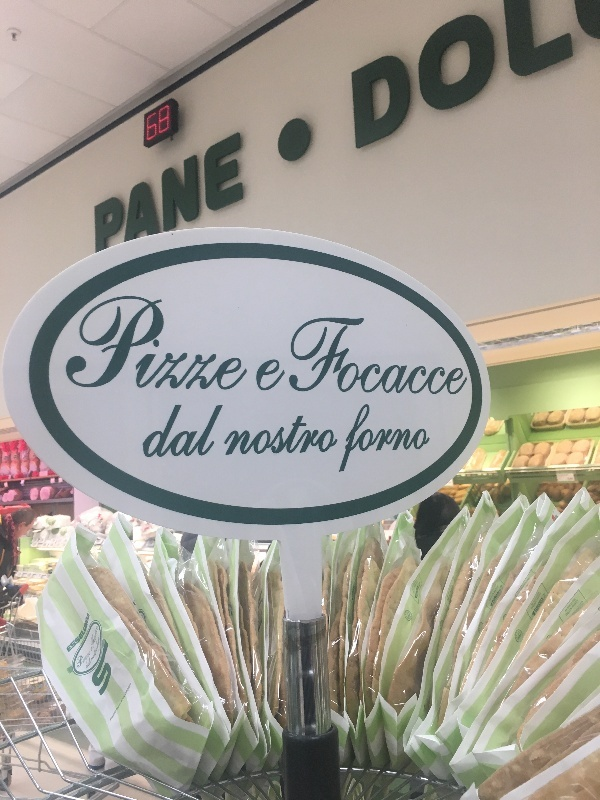text: (353, 1, 368, 153), (369, 1, 384, 153), (385, 1, 400, 153), (401, 1, 416, 153), (417, 1, 432, 153), (433, 1, 448, 153), (449, 1, 464, 153), (465, 1, 480, 153), (481, 1, 496, 153), (97, 129, 112, 255), (113, 129, 128, 255), (129, 129, 144, 255), (145, 129, 160, 255), (161, 129, 176, 255), (177, 129, 192, 255), (193, 129, 208, 255), (209, 129, 224, 255), (225, 129, 240, 255), (81, 277, 96, 391), (97, 277, 112, 391), (113, 277, 128, 391), (129, 277, 144, 391), (145, 277, 160, 391), (161, 277, 176, 391), (177, 277, 192, 391), (193, 277, 208, 391), (209, 277, 224, 391), (225, 277, 240, 391), (513, 4, 528, 93), (529, 4, 544, 93), (545, 4, 560, 93), (561, 4, 576, 93), (577, 4, 592, 93), (241, 277, 252, 391), (305, 316, 320, 398), (321, 316, 336, 398), (337, 316, 352, 398), (353, 316, 368, 398), (369, 316, 384, 398), (385, 316, 400, 398), (401, 316, 416, 398), (417, 316, 432, 398), (433, 316, 448, 398), (449, 316, 464, 398), (417, 403, 433, 476), (369, 403, 384, 476), (385, 403, 400, 476), (401, 403, 416, 476), (291, 316, 304, 398), (71, 277, 80, 391), (161, 396, 176, 458), (177, 396, 192, 458), (193, 396, 208, 458), (209, 396, 224, 458), (97, 640, 112, 702), (502, 4, 512, 93), (146, 396, 160, 458), (357, 403, 368, 476), (241, 411, 256, 456), (257, 411, 272, 456), (273, 411, 288, 456), (289, 411, 304, 456), (305, 411, 320, 456), (321, 411, 336, 456), (226, 411, 240, 456), (593, 4, 600, 93), (67, 611, 80, 656), (257, 358, 272, 395), (147, 103, 160, 142), (81, 611, 92, 656), (273, 358, 286, 395), (465, 316, 470, 398), (93, 129, 96, 255), (241, 129, 244, 255), (161, 103, 170, 142), (91, 640, 96, 702), (113, 640, 118, 702), (350, 1, 352, 153), (81, 646, 91, 670), (99, 636, 112, 652), (497, 1, 498, 153), (91, 625, 96, 653), (86, 658, 96, 670), (117, 701, 128, 711), (97, 625, 100, 653), (91, 647, 96, 662), (77, 646, 80, 670), (225, 396, 226, 458), (113, 709, 117, 721), (337, 411, 338, 456), (125, 683, 128, 696), (129, 683, 132, 696), (123, 694, 128, 701), (91, 646, 96, 652), (110, 709, 112, 721), (121, 700, 128, 703), (97, 647, 98, 662)
